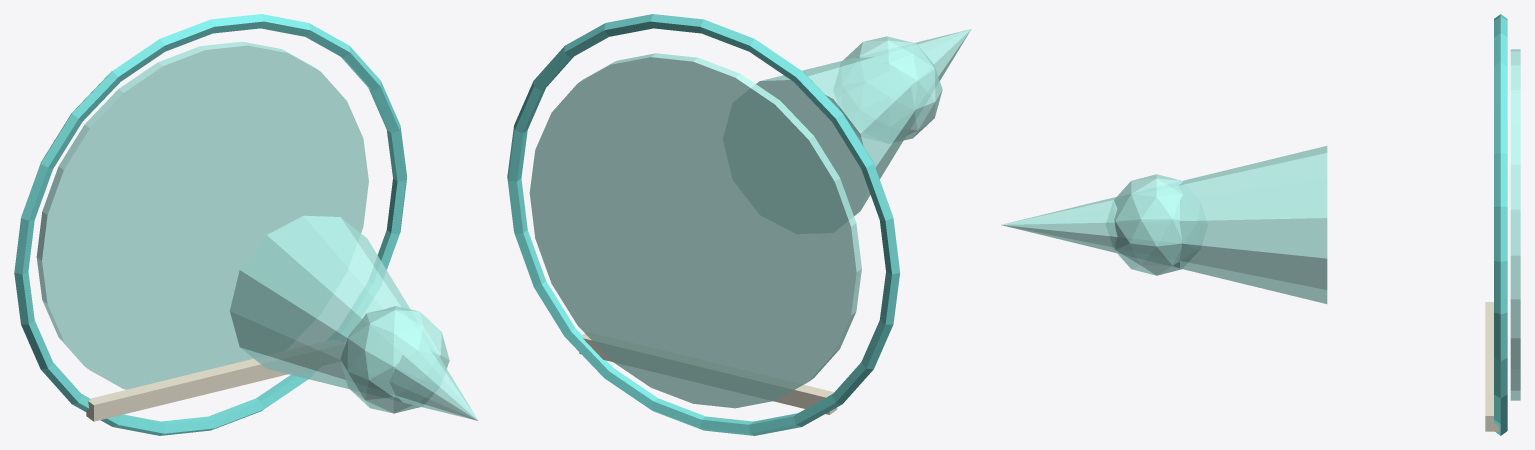
The model's file is 01_ability_vfx_module.glb.
3 renders of one model, left to right at view 1: azimuth 30°, elevation 25°; view 2: azimuth 150°, elevation 25°; view 3: azimuth 270°, elevation 25°, orthographic. The views are drawn at different scales.
Visible parts, largest first — view 1: ability_ground_disc, ability_energy_cone, ability_timing_ring, ability_core, directional_flow_mark; view 2: ability_ground_disc, ability_timing_ring, ability_energy_cone, directional_flow_mark, ability_core; view 3: ability_energy_cone, ability_core, ability_timing_ring, ability_ground_disc, directional_flow_mark.
Boxes of the visible parts, x1,y1,x2,y2 form: ability_ground_disc: (36,41,368,389); ability_energy_cone: (230,215,478,420); ability_timing_ring: (14,14,406,435); ability_core: (340,306,449,413); directional_flow_mark: (86,340,343,421); ability_ground_disc: (529,53,861,408); ability_timing_ring: (507,14,899,435); ability_energy_cone: (756,29,971,215); directional_flow_mark: (579,332,837,414); ability_core: (843,36,942,140); ability_energy_cone: (1001,146,1327,303); ability_core: (1114,174,1183,275); ability_timing_ring: (1494,14,1507,435); ability_ground_disc: (1510,49,1520,400); directional_flow_mark: (1485,302,1499,431).
Size of the model in its own units: 1.49 by 1.49 by 1.83.
